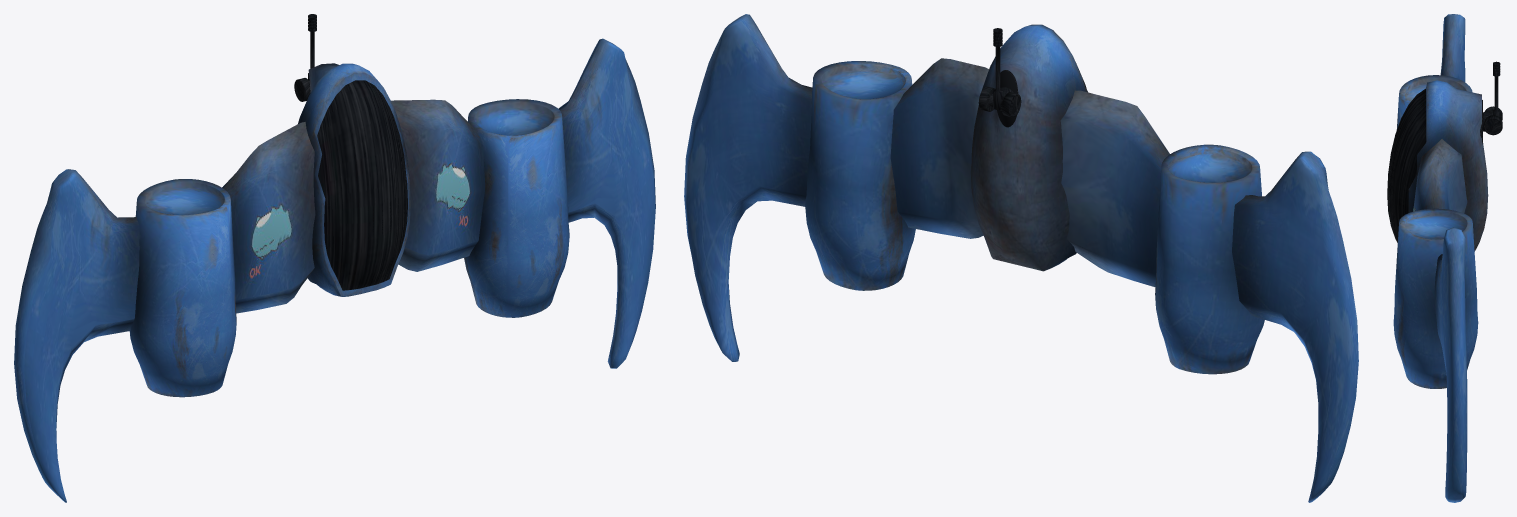
Rendered from space_ship_2.obj.
The picture shows the model from 3 angles, left to right: view 1: azimuth 30°, elevation 25°; view 2: azimuth 150°, elevation 25°; view 3: azimuth 270°, elevation 25°; orthographic projection. The views are drawn at different scales.
Parts seen in each view (by area): view 1: Cube.001, Cube, Sphere, Sphere.003, Sphere.001; view 2: Cube.001, Cube, Sphere, Sphere.001, Sphere.003; view 3: Sphere, Sphere.001, Cube, Cube.001, Sphere.003.
Boxes of the visible parts, x1,y1,x2,y2 form: Cube.001: (14,122,315,502); Cube: (391,38,655,368); Sphere: (294,14,410,296); Sphere.003: (129,179,236,397); Sphere.001: (464,99,569,317); Cube.001: (1060,90,1358,502); Cube: (684,14,988,361); Sphere: (970,24,1087,271); Sphere.001: (805,61,915,290); Sphere.003: (1155,144,1264,374); Sphere: (1387,61,1502,251); Sphere.001: (1393,208,1478,388); Cube: (1413,139,1467,502); Cube.001: (1440,14,1465,81); Sphere.003: (1396,75,1472,129).
Size of the model in its own units: 11.93 by 7.12 by 2.26.
Materials: 2 (2 with a texture image).
